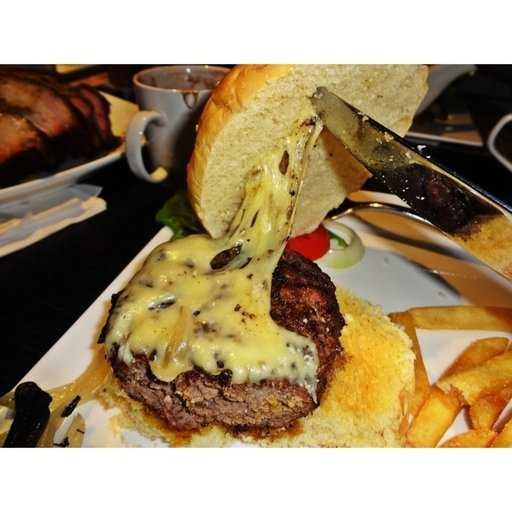hamburger: (93, 63, 504, 436)
